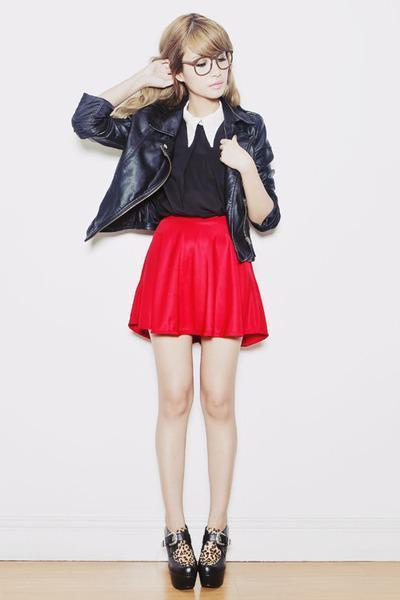jacket: (72, 84, 280, 263)
shirt: (158, 108, 245, 217)
shoe: (162, 528, 237, 590)
skirt: (128, 216, 268, 346)
